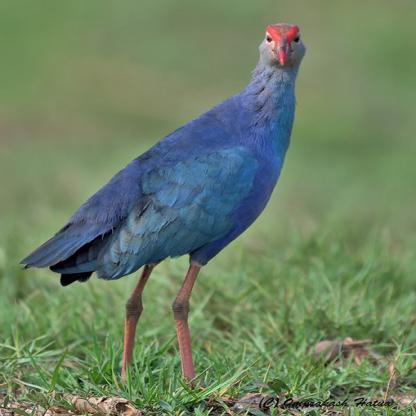Burung: (21, 21, 308, 392)
